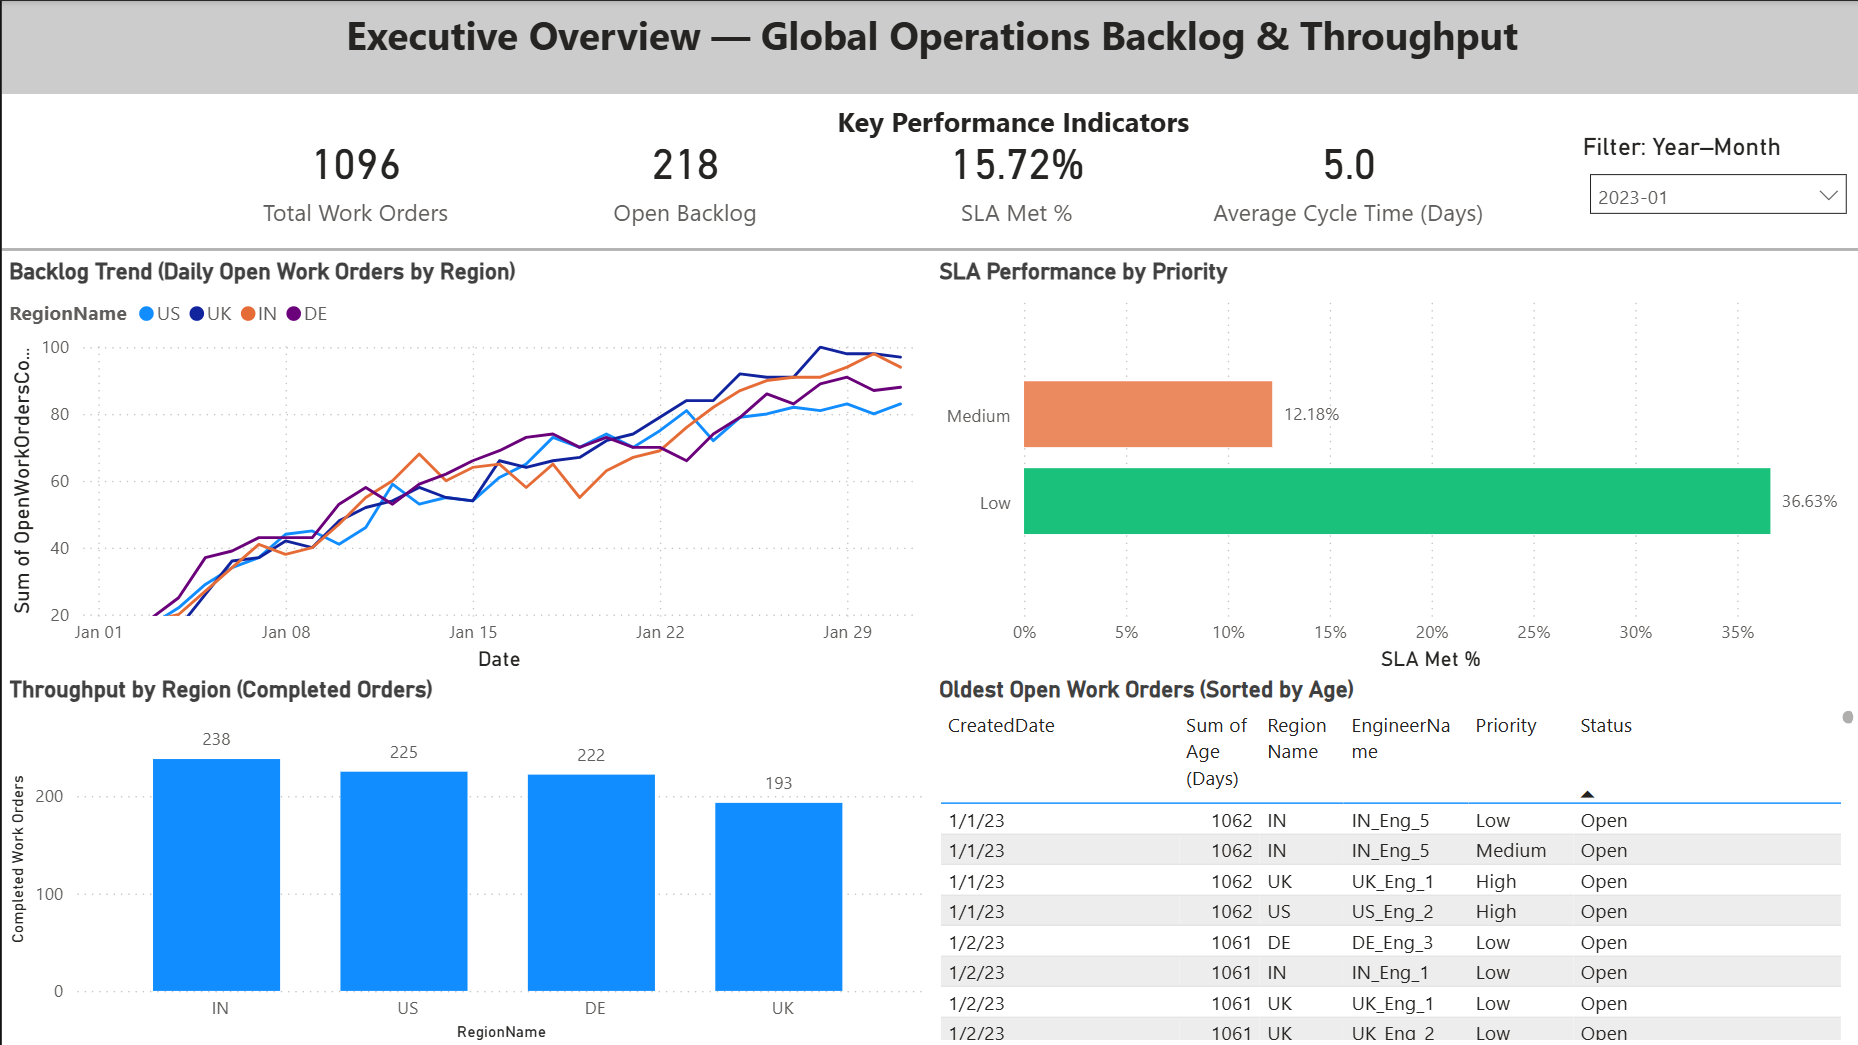

What the dashboard file says about the page in this screenshot:
{"tool":"powerbi","page":{"name":"Executive Overview","canvas":[1280,720],"ordinal":0},"visuals":[{"type":"slicer","title":"Filter: Year–Month","fields":{"Values":["Dim_Date.YearMonth"]},"box":[1083.3,90,196.7,75],"z":0},{"type":"card","fields":{"Values":["_Measures (2).Total Work Orders"]},"box":[86.7,65,312.6,111],"z":1000,"group":"g1"},{"type":"lineChart","title":"Backlog Trend (Daily Open Work Orders by Region)","fields":{"Category":["Dim_Date.Date"],"Y":["Fact_BacklogHistory.OpenWorkOrdersCount"],"Series":["Dim_Regions.RegionName"]},"box":[0,176.7,640,288.3],"z":1000},{"type":"card","fields":{"Values":["_Measures (2).Open Backlog"]},"box":[313.2,65,314.2,111],"z":2000,"group":"g1"},{"type":"clusteredColumnChart","title":"Throughput by Region (Completed Orders)","fields":{"Category":["Dim_Regions.RegionName"],"Y":["_Measures (2).Completed Work Orders"]},"box":[0,464.3,640,255.7],"z":2000},{"type":"card","fields":{"Values":["_Measures (2).SLA Met %"]},"box":[541.4,65,314.2,111],"z":3000,"group":"g1"},{"type":"clusteredBarChart","title":"SLA Performance by Priority","fields":{"Category":["Dim_SLA.Priority"],"Y":["_Measures (2).SLA Met %"]},"box":[640,176.7,640,288.3],"z":3000},{"type":"card","fields":{"Values":["_Measures (2).Average Cycle Time (Days)"]},"box":[769.5,65,314.2,111],"z":4000,"group":"g1"},{"type":"tableEx","title":"Oldest Open Work Orders (Sorted by Age)","fields":{"Values":["Fact__WorkOrders.CreatedDate","Fact__WorkOrders.Age (Days)","Dim_Regions.RegionName","Dim_Engineers.EngineerName","Fact__WorkOrders.Priority","Fact__WorkOrders.Status"]},"box":[640,465,640,255],"z":4000},{"type":"textbox","box":[0,0,1280,64.3],"z":5000},{"type":"group","id":"g1","title":"Group 1","box":[86.7,65,997,111],"z":6000},{"type":"shape","box":[0,165,1280,11.7],"z":7000},{"type":"textbox","box":[570,65,258.3,35],"z":9002,"group":"g1"}]}

Visuals, with their boxes in screenshot pixels (x1, y1, x2, y2), scaled from the page's 1280x720 canvas onto the 1858x1045 screenshot:
"Filter: Year–Month" slicer: x1=1572 y1=131 x2=1857 y2=239
card - _Measures (2).Total Work Orders: x1=126 y1=94 x2=580 y2=255
"Backlog Trend (Daily Open Work Orders by Region)" lineChart: x1=0 y1=256 x2=929 y2=675
card - _Measures (2).Open Backlog: x1=455 y1=94 x2=911 y2=255
"Throughput by Region (Completed Orders)" clusteredColumnChart: x1=0 y1=674 x2=929 y2=1044
card - _Measures (2).SLA Met %: x1=786 y1=94 x2=1242 y2=255
"SLA Performance by Priority" clusteredBarChart: x1=929 y1=256 x2=1857 y2=675
card - _Measures (2).Average Cycle Time (Days): x1=1117 y1=94 x2=1573 y2=255
"Oldest Open Work Orders (Sorted by Age)" tableEx: x1=929 y1=675 x2=1857 y2=1044
textbox: x1=0 y1=0 x2=1857 y2=93
"Group 1" group: x1=126 y1=94 x2=1573 y2=255
shape: x1=0 y1=239 x2=1857 y2=256
textbox: x1=827 y1=94 x2=1202 y2=145
